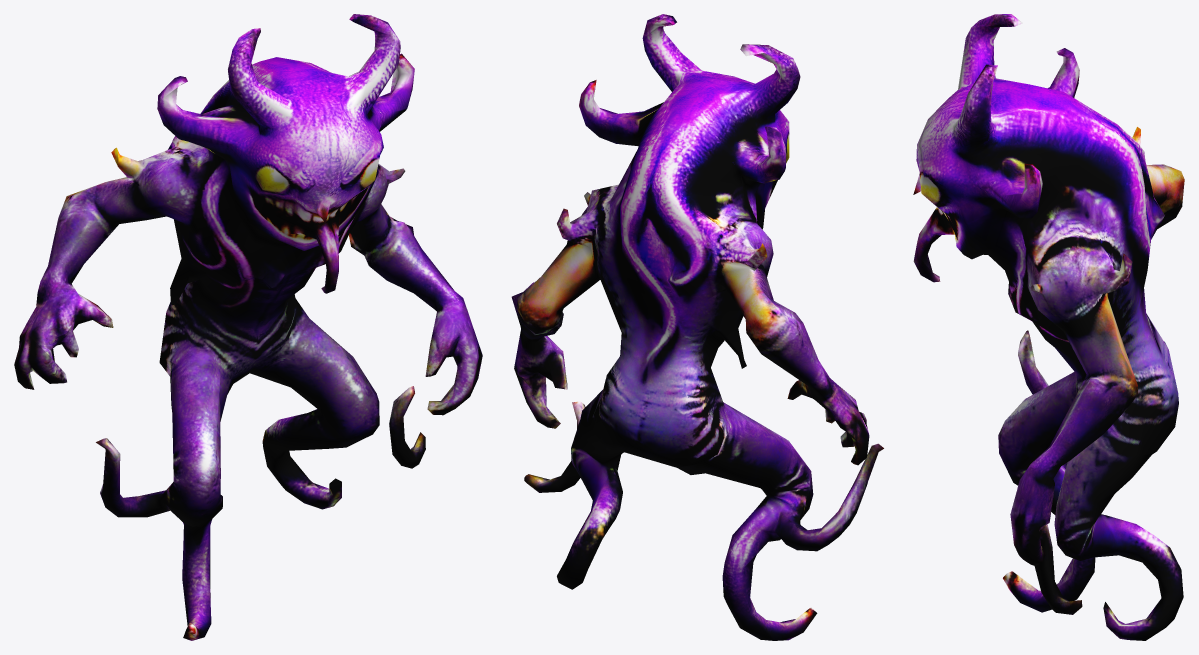
Rendered from Demon.gltf.
3 renders of one model, left to right at view 1: azimuth 30°, elevation 25°; view 2: azimuth 150°, elevation 25°; view 3: azimuth 270°, elevation 25°, orthographic. The views are drawn at different scales.
Parts seen in each view (by area): view 1: ProcessedMeshNode_LOD1; view 2: ProcessedMeshNode_LOD1; view 3: ProcessedMeshNode_LOD1.
Boxes of the visible parts, x1,y1,x2,y2 form: ProcessedMeshNode_LOD1: (14, 14, 482, 640); ProcessedMeshNode_LOD1: (511, 14, 883, 640); ProcessedMeshNode_LOD1: (913, 14, 1184, 640).
Bounding box in the file's own units: 0.6168 × 0.8613 × 0.3441.
Materials: 1 (1 with a texture image).
